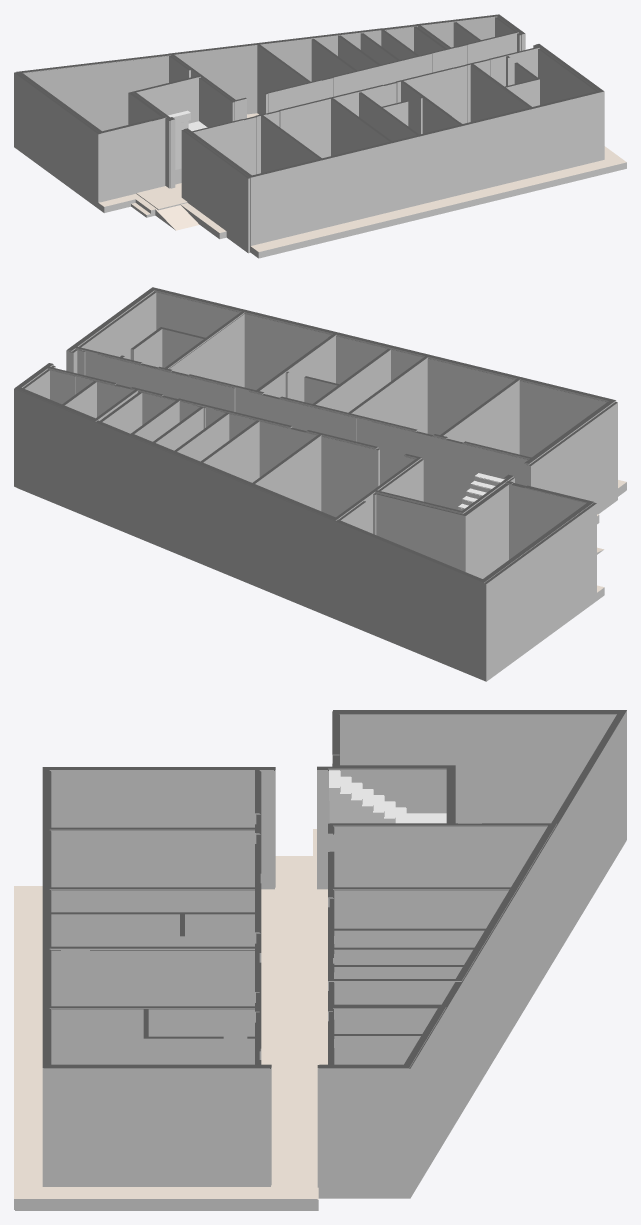
3 renders of one model, top to bottom at view 1: azimuth 30°, elevation 25°; view 2: azimuth 150°, elevation 25°; view 3: azimuth 270°, elevation 25°, orthographic. The views are drawn at different scales.
Parts seen in each view (by area): view 1: 3RD_FLOORGAPT, 1ST_FLOORGAPT, 2ND_FLOORGAPT; view 2: 1ST_FLOORGAPT, 2ND_FLOORGAPT, 3RD_FLOORGAPT; view 3: 2ND_FLOORGAPT, 3RD_FLOORGAPT, 1ST_FLOORGAPT.
Part boxes in pixels (box(x1,y1,x2,y2)): 3RD_FLOORGAPT: box(132, 14, 626, 258); 1ST_FLOORGAPT: box(14, 17, 597, 253); 2ND_FLOORGAPT: box(16, 24, 626, 258); 1ST_FLOORGAPT: box(17, 291, 617, 681); 2ND_FLOORGAPT: box(14, 291, 625, 680); 3RD_FLOORGAPT: box(14, 287, 626, 533); 2ND_FLOORGAPT: box(15, 711, 626, 1210); 3RD_FLOORGAPT: box(14, 766, 556, 1209); 1ST_FLOORGAPT: box(51, 710, 626, 1185).
Bounding box in the file's own units: 36.81 × 6.14 × 25.67.
